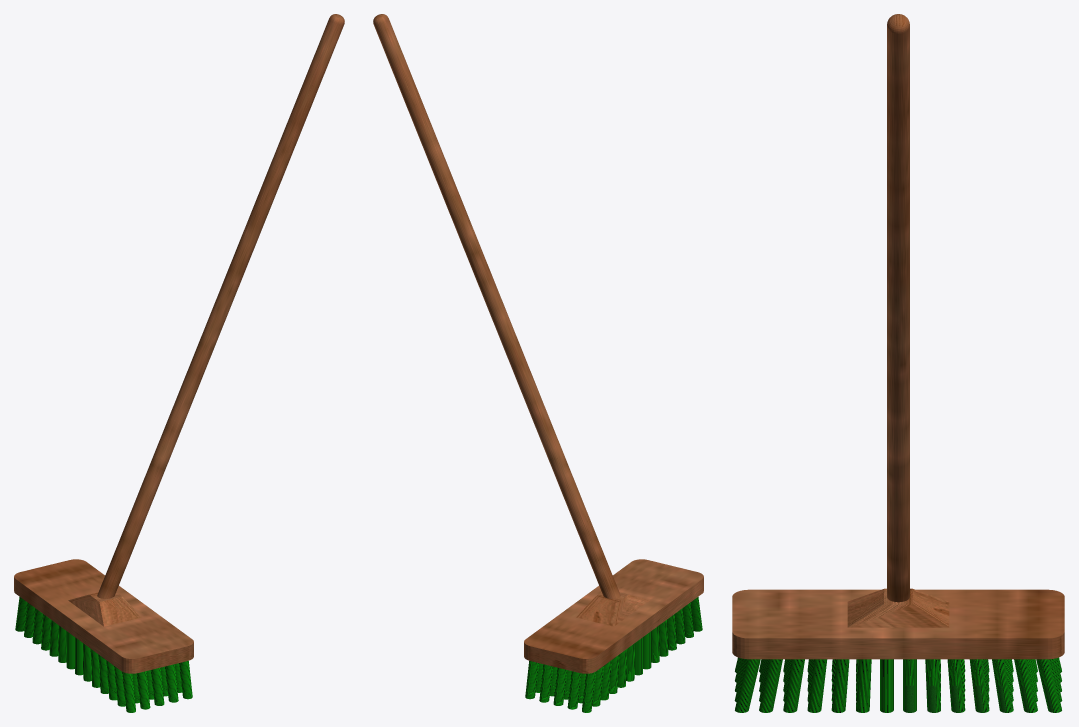
File: push_broom_2_thin_head.fbx
3 views of the same model, side by side, from view 1: azimuth 30°, elevation 25°; view 2: azimuth 150°, elevation 25°; view 3: azimuth 270°, elevation 25° (orthographic). The views are drawn at different scales.
Parts seen in each view (by area): view 1: handle, head, bristles right.001, neck; view 2: handle, head, bristles right.001, neck; view 3: head, handle, bristles right.001, neck.
Boxes of the visible parts, x1=… form: handle: x1=97, y1=14, x2=344, y2=598; head: x1=14, y1=559, x2=193, y2=673; bristles right.001: x1=15, y1=597, x2=192, y2=712; neck: x1=68, y1=592, x2=141, y2=626; handle: x1=373, y1=14, x2=620, y2=598; head: x1=524, y1=559, x2=703, y2=673; bristles right.001: x1=525, y1=597, x2=702, y2=712; neck: x1=576, y1=592, x2=649, y2=626; head: x1=732, y1=589, x2=1064, y2=659; handle: x1=887, y1=14, x2=909, y2=602; bristles right.001: x1=734, y1=657, x2=1062, y2=712; neck: x1=847, y1=588, x2=949, y2=627.
Size of the model in its own units: 38.89 by 79.97 by 28.86.
Materials: 2 (2 with a texture image).
